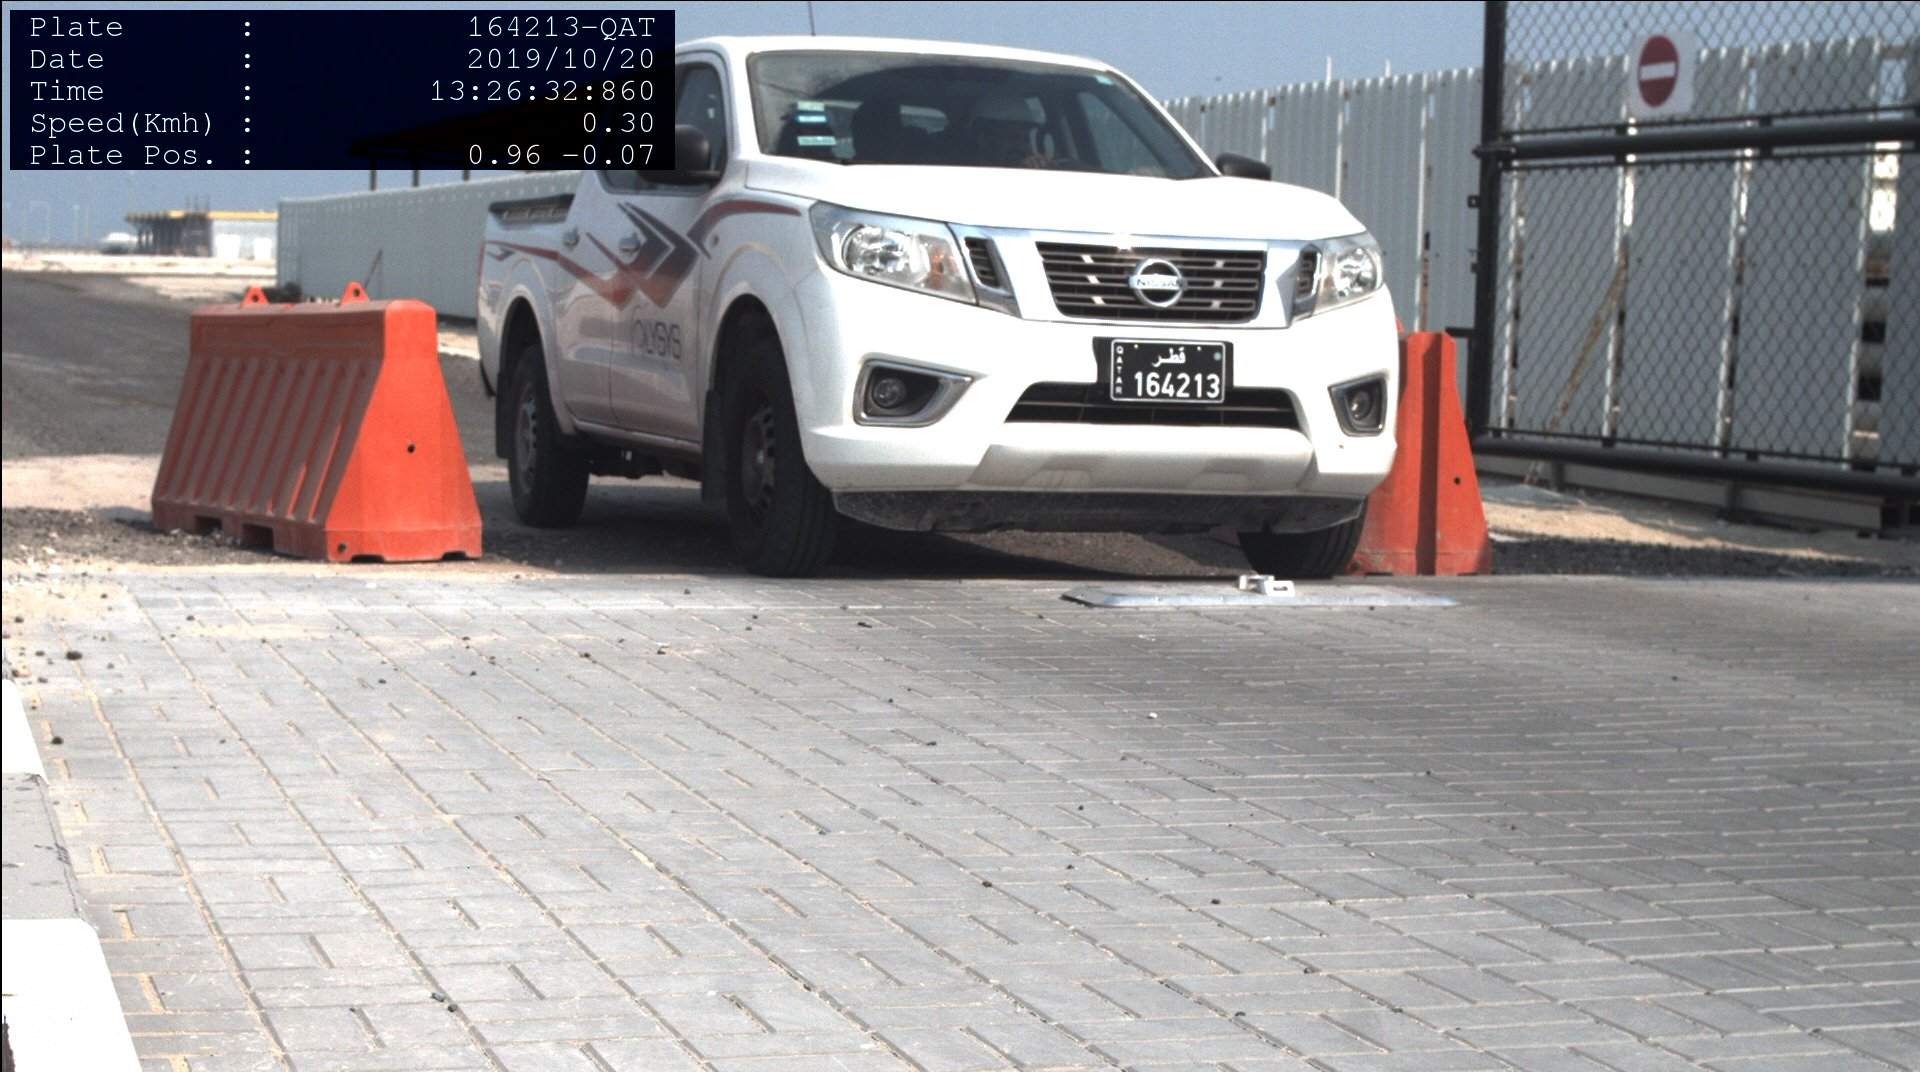License Plate: (1109, 341, 1223, 403)
